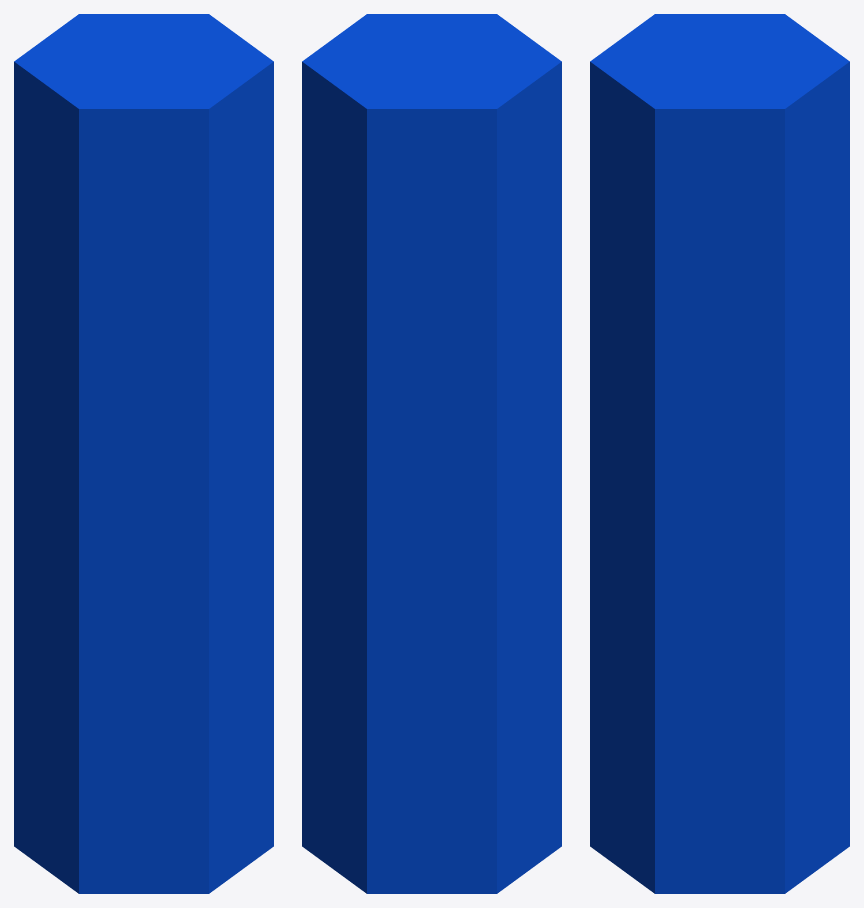
File: Saber.glb
3 views of the same model, side by side, from view 1: azimuth 30°, elevation 25°; view 2: azimuth 150°, elevation 25°; view 3: azimuth 270°, elevation 25° (orthographic).
Parts seen in each view (by area): view 1: Hilt; view 2: Hilt; view 3: Hilt.
Part boxes in pixels (x1,y1,x2,y2): Hilt: (14,14,273,893); Hilt: (302,14,561,893); Hilt: (590,14,849,893).
Bounding box in the file's own units: 0.2598 × 1 × 0.3.
